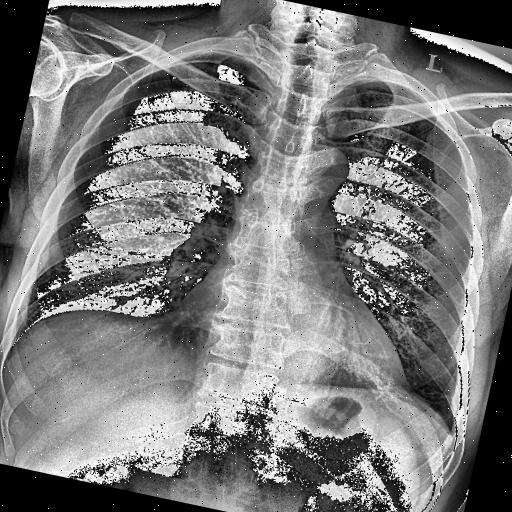0- Aortic enlargement: (299, 136, 362, 200)
13- Pulmonary fibrosis: (398, 375, 460, 419)
3- Cardiomegaly: (150, 263, 426, 420)
5- ILD: (384, 368, 472, 439), (404, 375, 474, 427)
